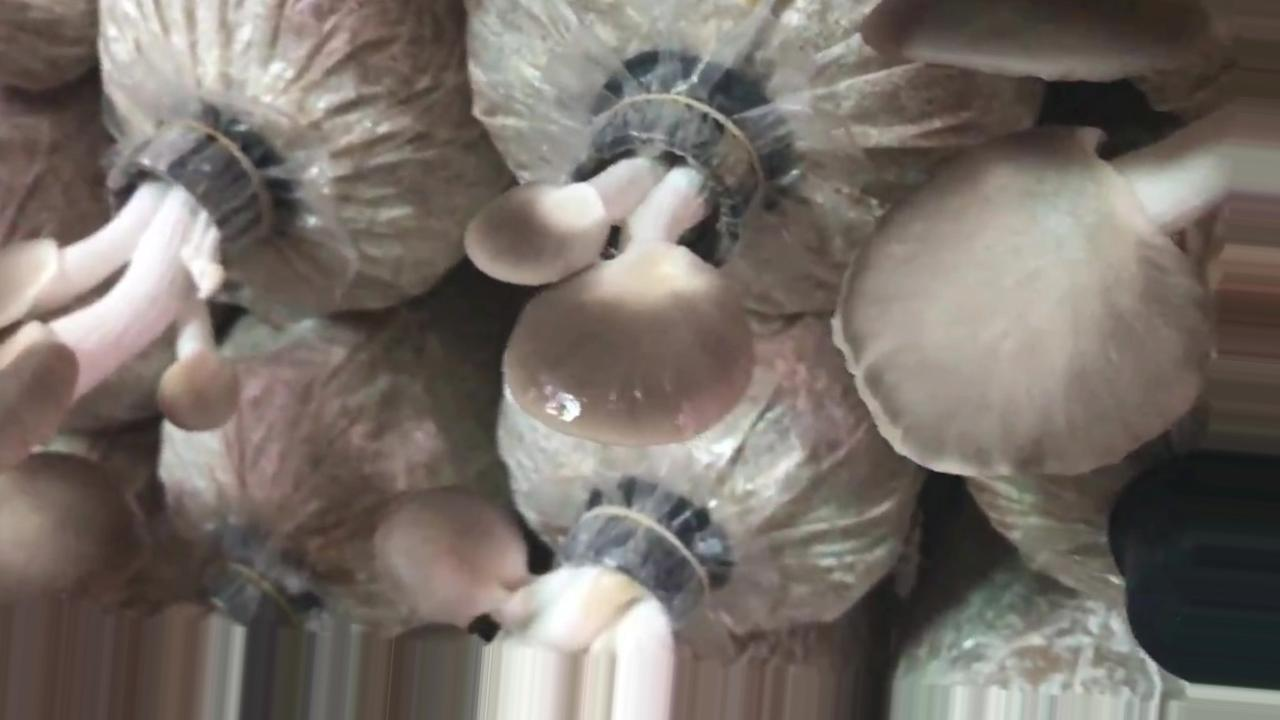nam: (830, 1, 1278, 481), (461, 89, 784, 453), (1, 107, 292, 484), (381, 484, 734, 720)
